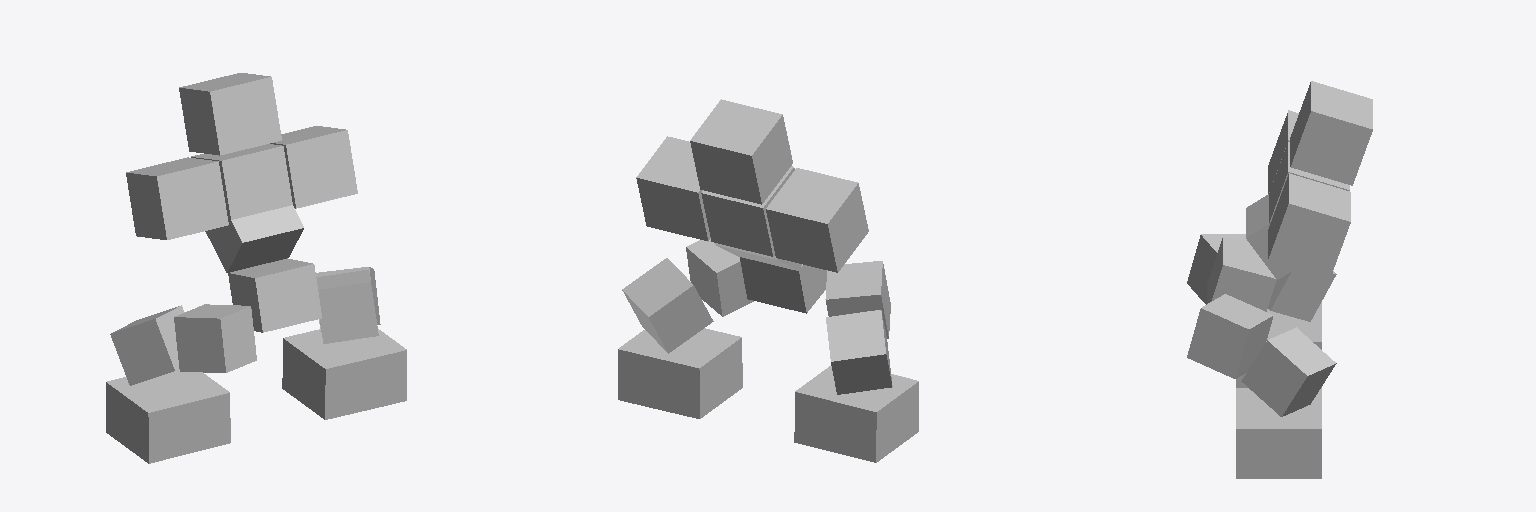
Rendered from Boss_body.obj.
3 renders of one model, left to right at view 1: azimuth 30°, elevation 25°; view 2: azimuth 150°, elevation 25°; view 3: azimuth 270°, elevation 25°, orthographic.
Visible parts, largest first — view 1: 立方体.005_立方体.023, 立方体.009, Cube, 立方体.002, 立方体.004, 立方体.010_立方体.025, 立方体.001, 立方体, 立方体.003, 立方体.006, 立方体.008_立方体.024; view 2: 立方体.009, 立方体.005_立方体.023, 立方体.002, Cube, 立方体.001, 立方体.007, 立方体.008_立方体.024, 立方体, 立方体.004, 立方体.006, 立方体.010_立方体.025, 立方体.003; view 3: 立方体.009, Cube, 立方体.001, 立方体.007, 立方体.006, 立方体.004, 立方体.008_立方体.024, 立方体.003, 立方体.010_立方体.025, 立方体.005_立方体.023, 立方体, 立方体.002.
Part boxes in pixels (left/top/right/bottom): 立方体.005_立方体.023: left=106, top=369, right=230, bottom=463; 立方体.009: left=282, top=329, right=406, bottom=419; Cube: left=179, top=73, right=281, bottom=155; 立方体.002: left=126, top=157, right=228, bottom=239; 立方体.004: left=228, top=258, right=321, bottom=332; 立方体.010_立方体.025: left=174, top=304, right=256, bottom=372; 立方体.001: left=270, top=126, right=357, bottom=208; 立方体: left=191, top=144, right=292, bottom=219; 立方体.003: left=205, top=205, right=303, bottom=272; 立方体.006: left=316, top=270, right=378, bottom=343; 立方体.008_立方体.024: left=110, top=305, right=184, bottom=385; 立方体.009: left=618, top=328, right=742, bottom=418; 立方体.005_立方体.023: left=794, top=366, right=918, bottom=462; 立方体.002: left=766, top=168, right=868, bottom=272; Cube: left=690, top=99, right=792, bottom=204; 立方体.001: left=636, top=136, right=710, bottom=241; 立方体.007: left=622, top=258, right=713, bottom=353; 立方体.008_立方体.024: left=826, top=310, right=892, bottom=394; 立方体: left=701, top=166, right=794, bottom=256; 立方体.004: left=740, top=257, right=826, bottom=313; 立方体.006: left=686, top=239, right=753, bottom=316; 立方体.010_立方体.025: left=825, top=261, right=890, bottom=338; 立方体.003: left=715, top=243, right=801, bottom=270; 立方体.009: left=1236, top=388, right=1321, bottom=478; Cube: left=1290, top=81, right=1372, bottom=185; 立方体.001: left=1268, top=173, right=1350, bottom=277; 立方体.007: left=1241, top=327, right=1336, bottom=416; 立方体.006: left=1187, top=294, right=1273, bottom=378; 立方体.004: left=1207, top=236, right=1276, bottom=311; 立方体.008_立方体.024: left=1268, top=269, right=1336, bottom=321; 立方体.003: left=1246, top=194, right=1296, bottom=279; 立方体.010_立方体.025: left=1187, top=234, right=1248, bottom=304; 立方体.005_立方体.023: left=1236, top=302, right=1321, bottom=387; 立方体: left=1268, top=142, right=1349, bottom=227; 立方体.002: left=1268, top=110, right=1298, bottom=193.
Size of the model in its own units: 10.88 by 12.61 by 6.65.